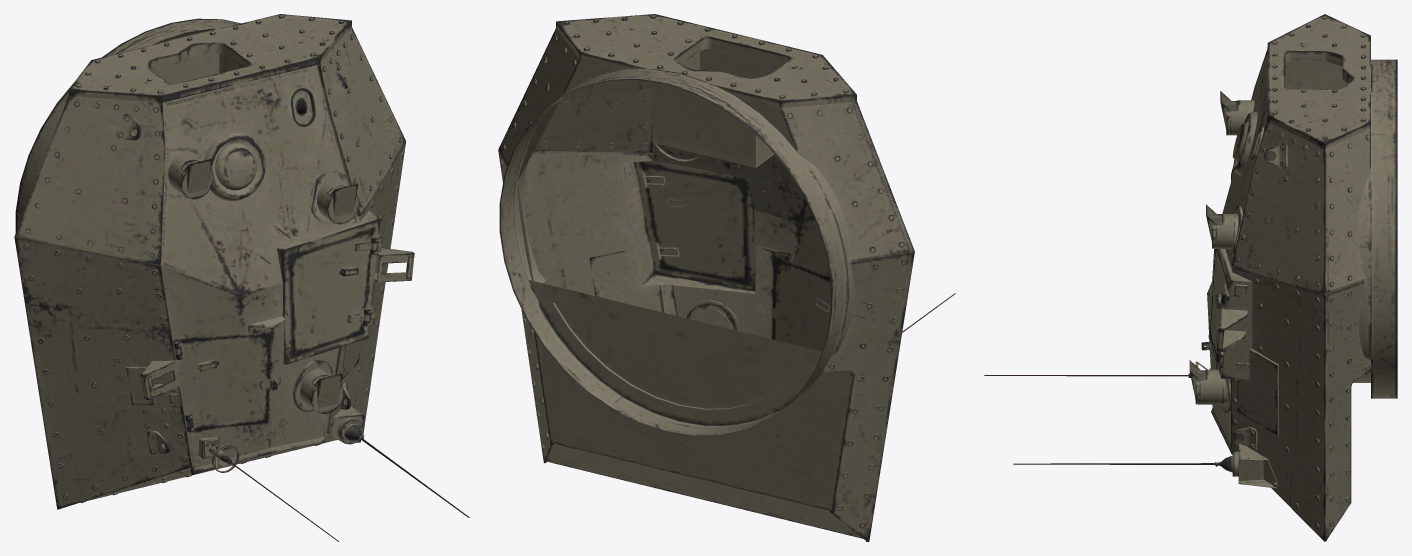
Rendered from Turret_02.glb.
3 renders of one model, left to right at view 1: azimuth 30°, elevation 25°; view 2: azimuth 150°, elevation 25°; view 3: azimuth 270°, elevation 25°, orthographic. The views are drawn at different scales.
Parts seen in each view (by area): view 1: set_0_group_0; view 2: set_0_group_0; view 3: set_0_group_0.
Boxes of the visible parts, left/top/right/bottom form: set_0_group_0: left=14, top=14, right=469, bottom=541; set_0_group_0: left=498, top=14, right=955, bottom=541; set_0_group_0: left=984, top=14, right=1397, bottom=541.
Size of the model in its own units: 2.08 by 2.14 by 2.02.
1 material, 1 textured.
